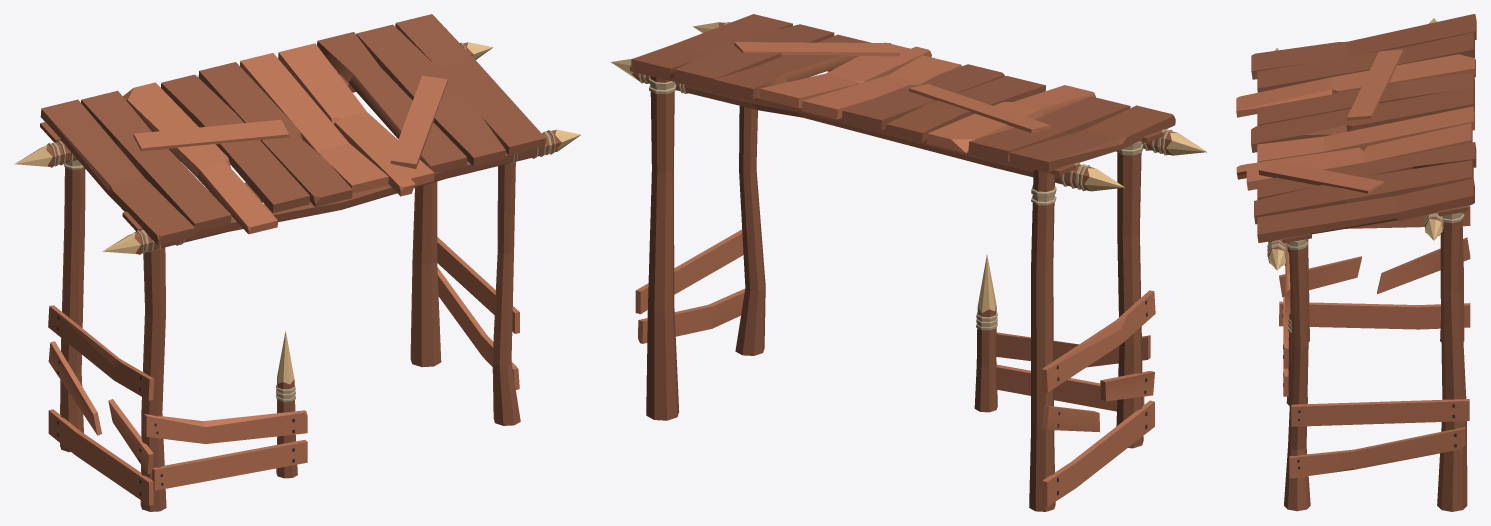
Rendered from Stall.fbx.
3 renders of one model, left to right at view 1: azimuth 30°, elevation 25°; view 2: azimuth 150°, elevation 25°; view 3: azimuth 270°, elevation 25°, orthographic. The views are drawn at different scales.
Visible parts, largest first — view 1: Stall; view 2: Stall; view 3: Stall.
Boxes of the visible parts, x1,y1,x2,y2 form: Stall: [14, 14, 581, 511]; Stall: [611, 14, 1206, 511]; Stall: [1236, 14, 1476, 511].
Bounding box in the file's own units: 4.8 × 3.16 × 2.16.
